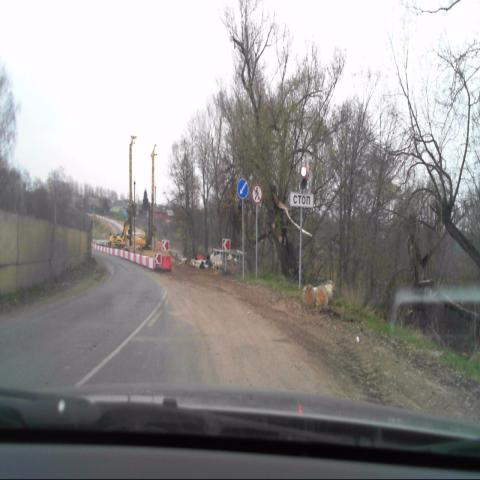4_2_2: (237, 179, 249, 199)
